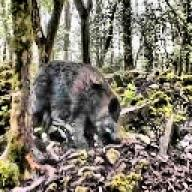boar: (27, 58, 123, 148)
